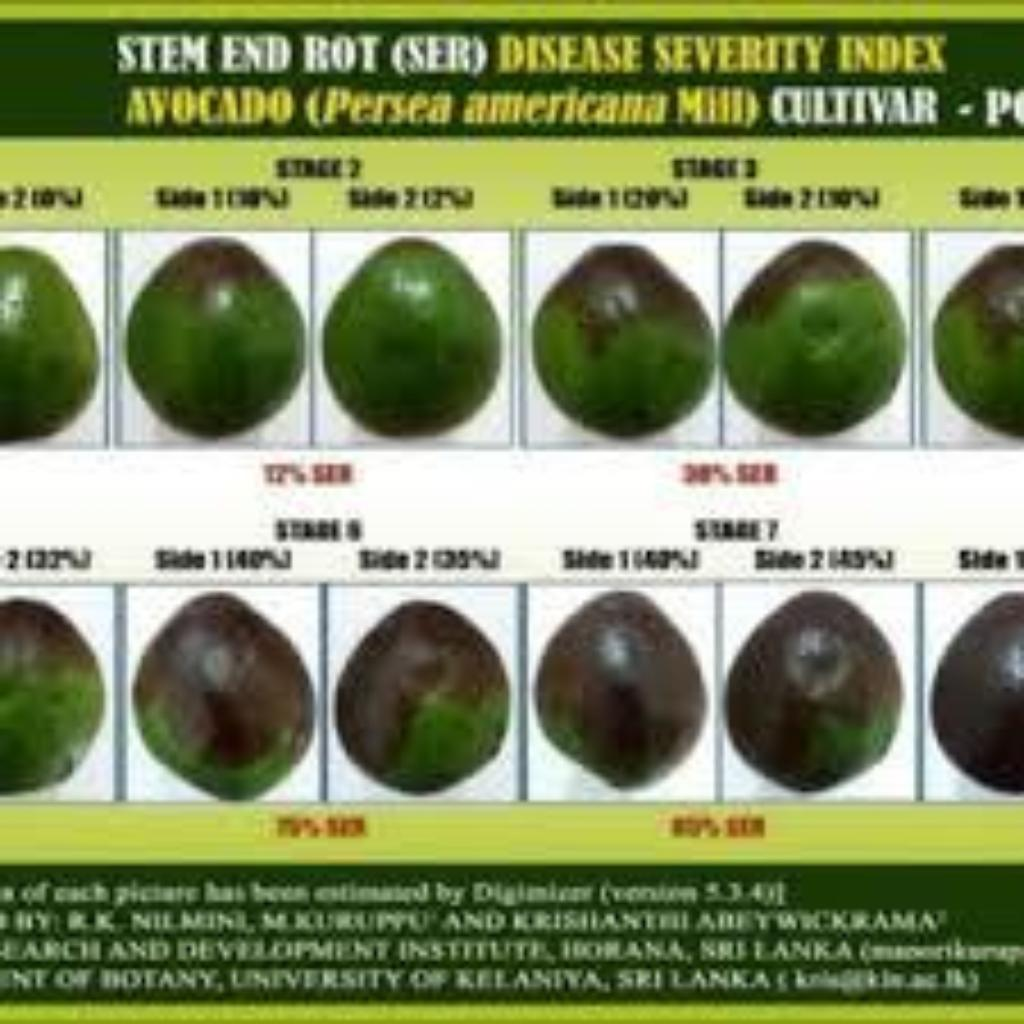Anthracnose: (123, 583, 319, 815), (120, 232, 316, 442), (339, 582, 521, 796), (728, 238, 910, 444), (532, 238, 710, 444), (540, 584, 712, 794), (732, 587, 906, 783), (0, 580, 118, 798)
